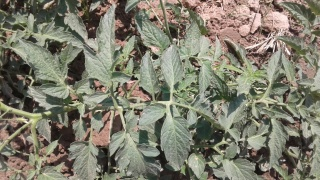tomato plant: (140, 45, 315, 180), (8, 12, 136, 108)
